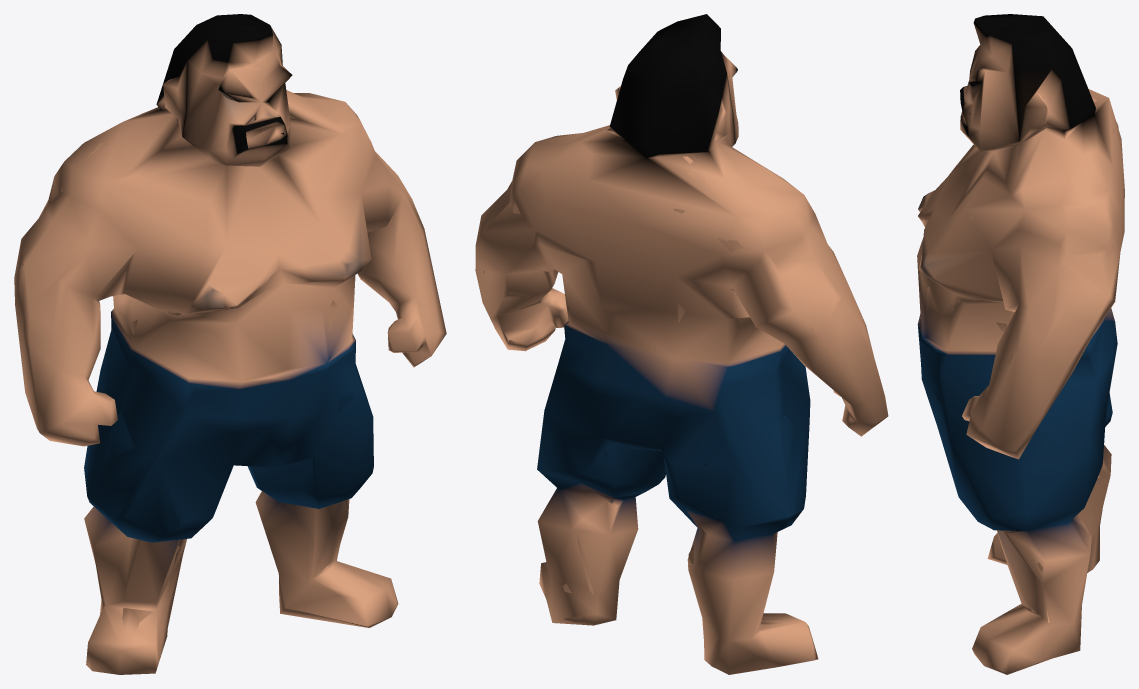
File: gen3d-sumo-wrestler-lod1.glb
3 views of the same model, side by side, from view 1: azimuth 30°, elevation 25°; view 2: azimuth 150°, elevation 25°; view 3: azimuth 270°, elevation 25° (orthographic). The views are drawn at different scales.
Visible parts, largest first — view 1: part_0; view 2: part_0; view 3: part_0.
Part boxes in pixels (bbox=[...]): part_0: bbox=[14, 14, 446, 674]; part_0: bbox=[475, 14, 888, 674]; part_0: bbox=[917, 14, 1124, 674].
Size of the model in its own units: 0.6857 by 1 by 0.3221.
